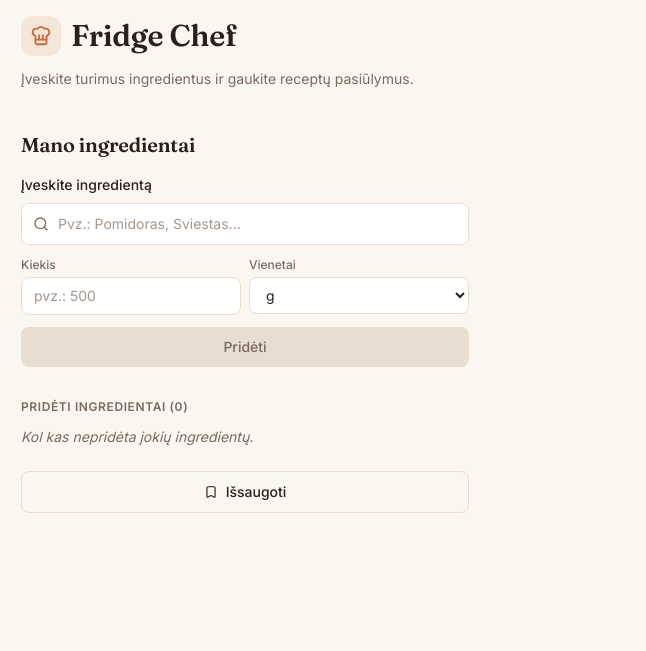
Test case: Home Page Integration Tests › Test 3: Kelių ingredientų pridėjimas › leidžia pridėti kelis skirtingus ingredientus į sąrašą
Type "Sviest" into the dropdown labelled "Įveskite ingredientą" at [245, 224], box [21,203,469,245]
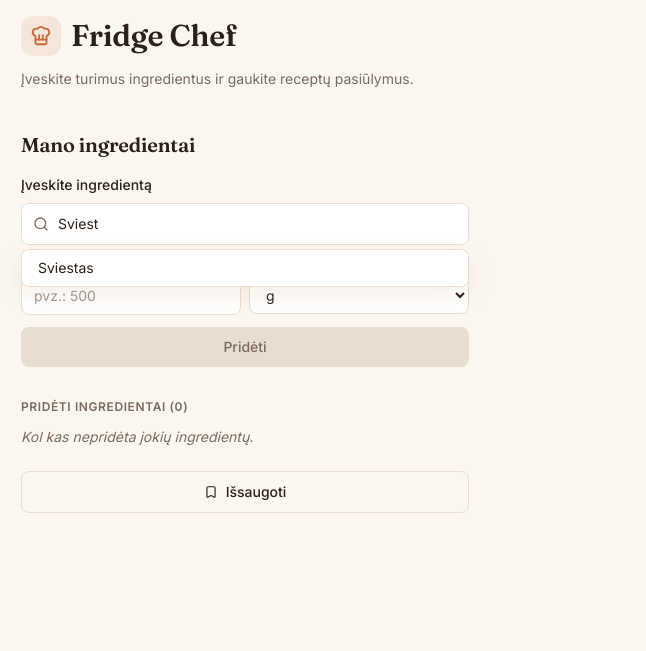
Press the mouse on the option "Sviestas" at [66, 267], box [38,259,94,276]
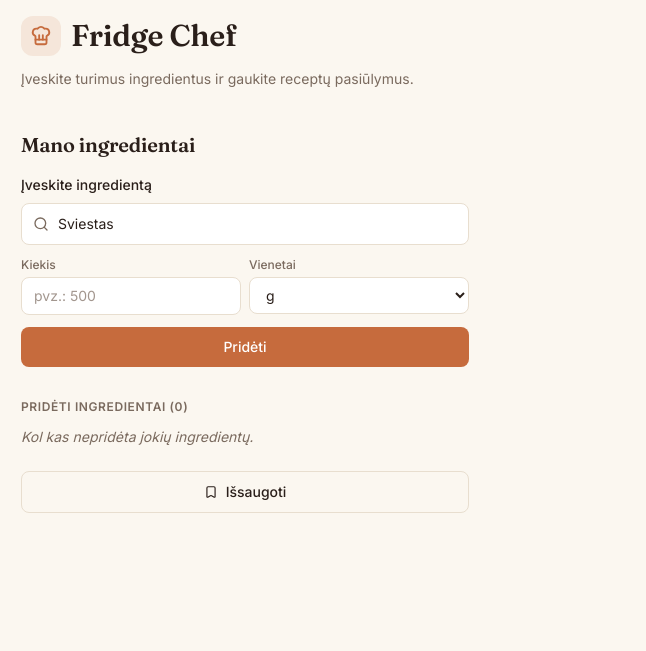
Click the button "Pridėti" at [245, 347], box [21,327,469,367]
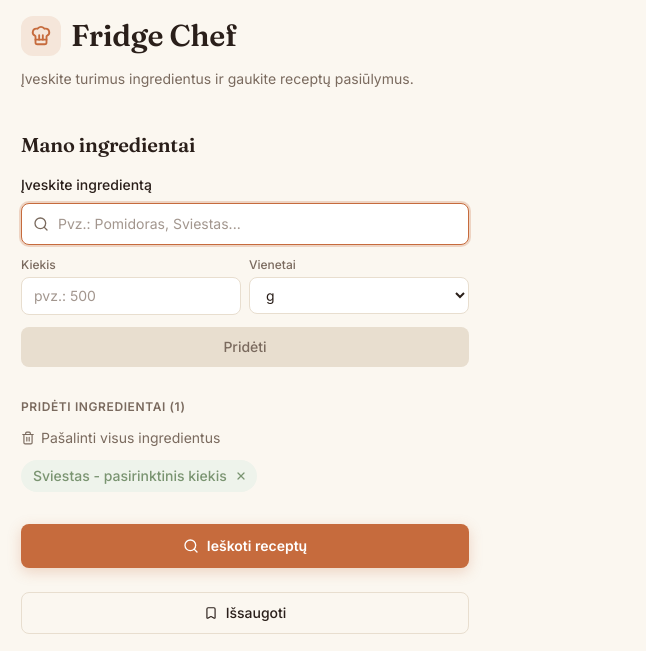
Type "Kiauš" into the dropdown labelled "Įveskite ingredientą" at [245, 224], box [21,203,469,245]
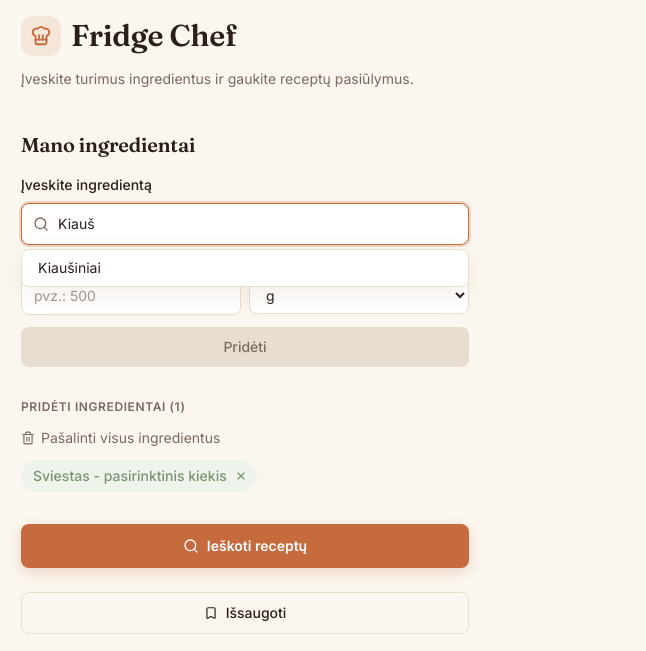
Press the mouse on the option "Kiaušiniai" at [69, 267], box [38,259,101,276]
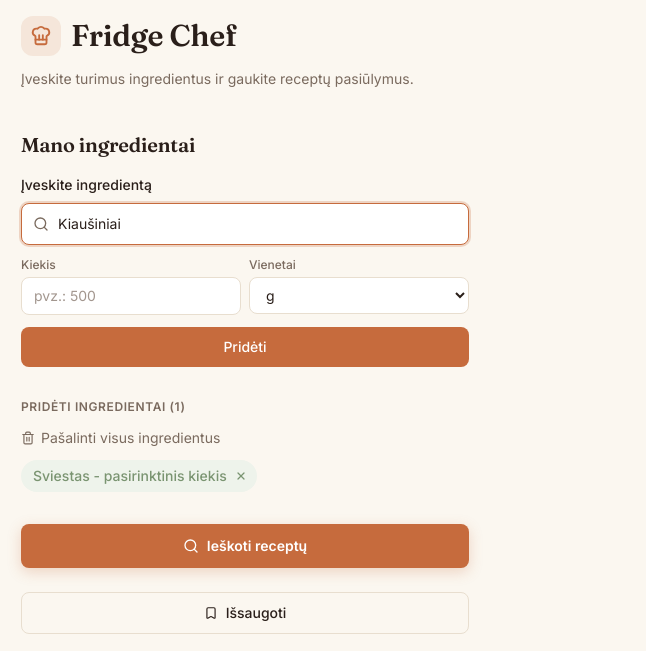
Type "2" into the number field with placeholder "pvz.: 500" at [131, 296], box [21,277,241,315]
Select "vnt." in the dropdown showing "g" at [359, 295], box [249,277,469,314]
Click the button "Pridėti" at [245, 347], box [21,327,469,367]
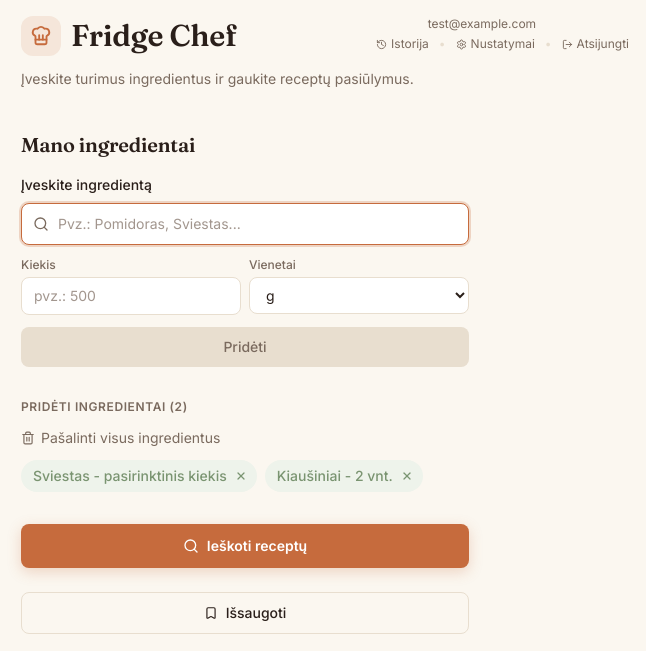
Now the button "Sviestas - pasirinktinis kiekis" is shown, box [33,466,227,486]
Now the button "Kiaušiniai - 2 vnt." is shown, box [277,466,393,486]
